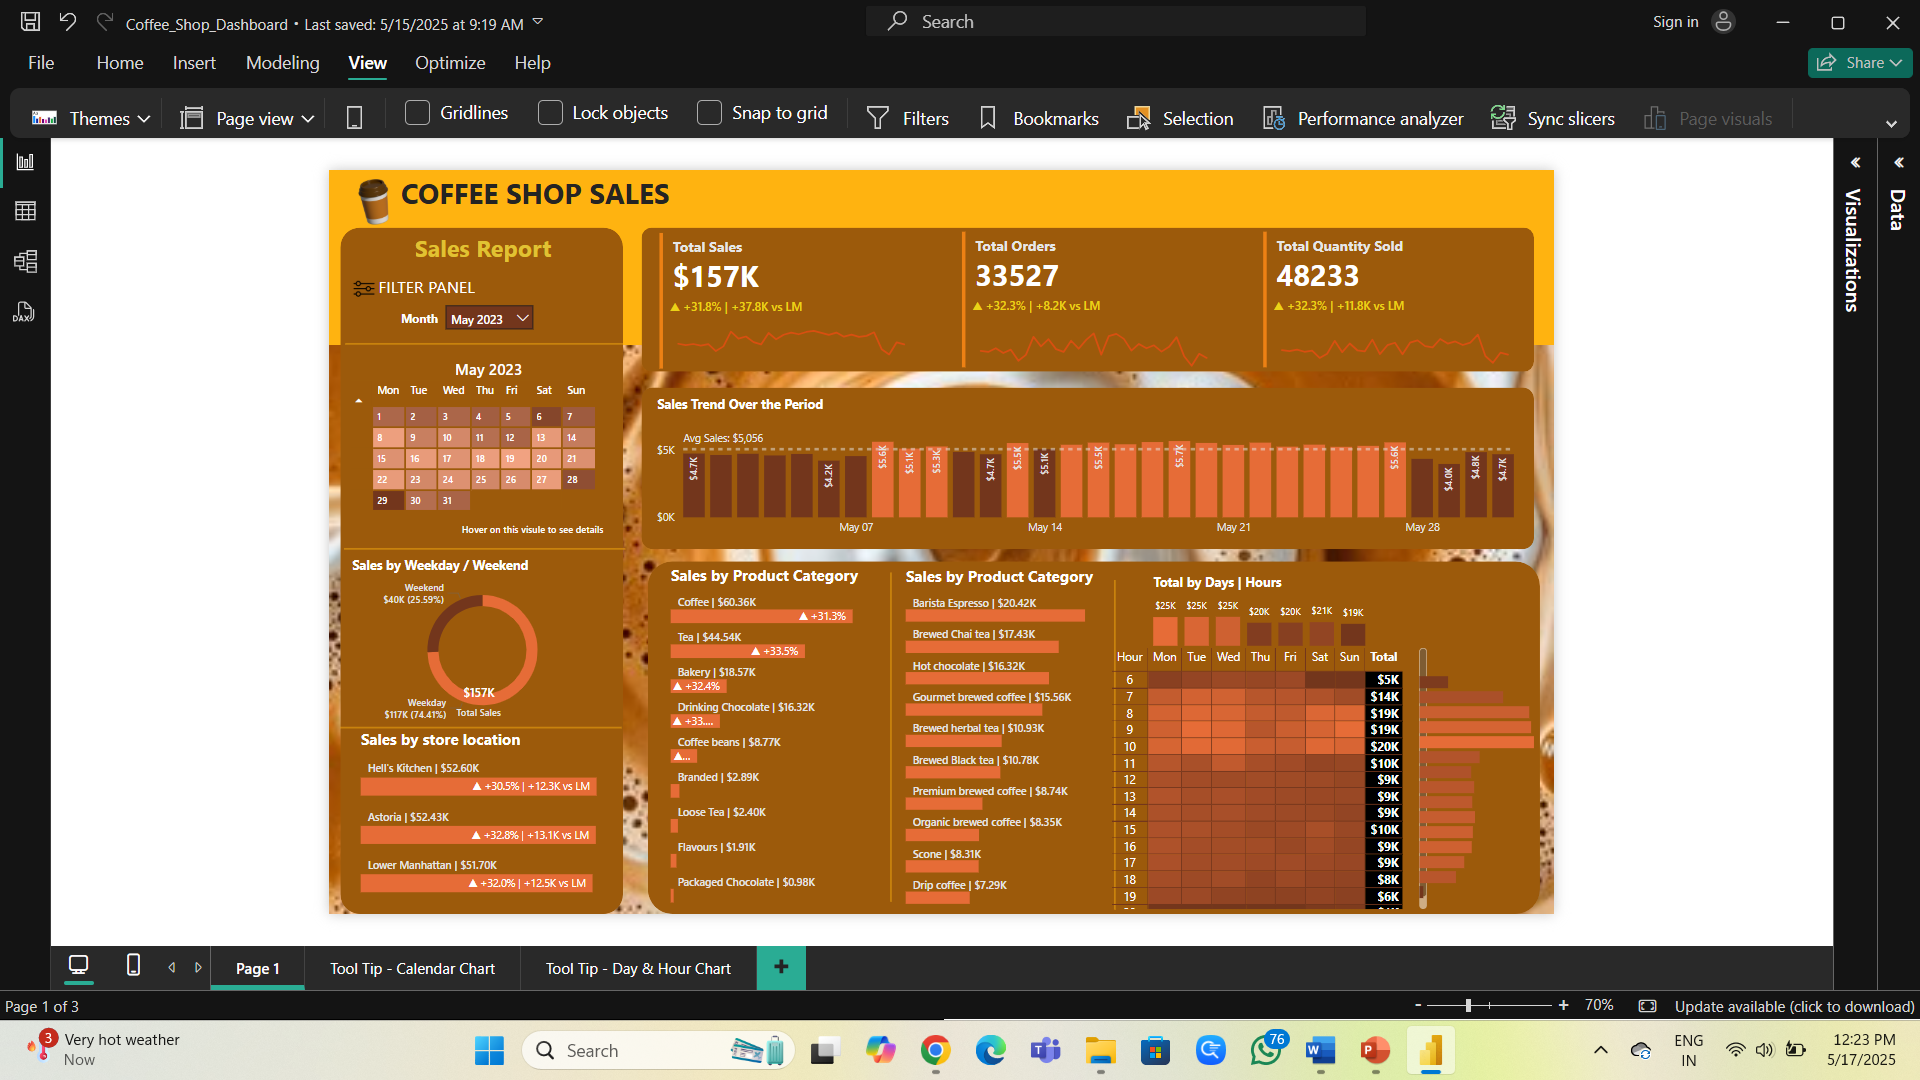

This screenshot's page, from the dashboard's own definition file:
{"tool":"powerbi","page":{"name":"Page 1","canvas":[1400,850],"ordinal":0},"visuals":[{"type":"shape","box":[0,0,1400,200],"z":0},{"type":"shape","box":[13.3,65,323.3,785],"z":1000},{"type":"shape","box":[356.7,65,1020,165],"z":2000},{"type":"textbox","box":[76.7,0,375,65],"z":3000},{"type":"cardVisual","fields":{"Data":["Transactions.Total Orders"]},"box":[718.3,65,300,165],"z":4000,"group":"g2"},{"type":"cardVisual","fields":{"Data":["Transactions.Total Quantity Sold"]},"box":[1063.3,65,300,165],"z":4000,"group":"g3"},{"type":"cardVisual","fields":{"Data":["Transactions.Total Sales"]},"box":[373.3,66.7,300,165],"z":4000,"group":"g1"},{"type":"slicer","fields":{"Values":["Date Table.Month Year"]},"box":[128.3,150,110,40],"z":4000},{"type":"group","id":"g1","title":"Group 1","box":[373.3,66.7,300,165],"z":5000},{"type":"group","id":"g2","title":"Group 1","box":[718.3,65,300,165],"z":6000},{"type":"lineChart","fields":{"Category":["Date Table.Date Hierarchy.Date"],"Y":["Transactions.Total Orders"]},"box":[730,145,288.3,85],"z":6000,"group":"g2"},{"type":"lineChart","fields":{"Category":["Date Table.Date Hierarchy.Date"],"Y":["Transactions.Total Quantity Sold"]},"box":[1075,145,288.3,85],"z":6000,"group":"g3"},{"type":"lineChart","fields":{"Category":["Date Table.Date Hierarchy.Date"],"Y":["Transactions.Total Sales"]},"box":[385,146.7,288.3,85],"z":6000,"group":"g1"},{"type":"group","id":"g3","title":"Group 1","box":[1063.3,65,300,165],"z":7000},{"type":"pivotTable","fields":{"Columns":["Date Table.Day Name"],"Rows":["Date Table.Week Number"],"Values":["Min(Date Table.Day Number)"]},"box":[20,235,305,190],"z":8000},{"type":"card","fields":{"Values":["Min(Date Table.Month Year)"]},"box":[128.3,198.3,108.3,61.7],"z":9000},{"type":"card","fields":{"Values":["Transactions.Foot Note"]},"box":[93.3,368.3,280,90],"z":10000},{"type":"shape","box":[16.7,406.7,321.7,51.7],"z":11000},{"type":"shape","box":[18.3,173.3,321.7,51.7],"z":12000},{"type":"donutChart","title":"Sales by Weekday / Weekend","fields":{"Category":["Date Table.Weekday / Weekend"],"Y":["Transactions.Total Sales"]},"box":[21.7,441.7,308.3,195],"z":13000},{"type":"card","fields":{"Values":["Transactions.Total Sales"]},"box":[121.7,576.7,100,60],"z":14000},{"type":"shape","box":[13.3,611.7,321.7,51.7],"z":15000},{"type":"clusteredBarChart","title":"Sales by store location","fields":{"Y":["Transactions.Placeholder","Transactions.Total Sales"],"Category":["Transactions.store_location"]},"box":[31.7,638.3,308.3,195],"z":16000},{"type":"shape","box":[356.7,248.3,1020,185],"z":17000},{"type":"columnChart","title":"Sales  Trend Over the Period","fields":{"Category":["Transactions.transaction_date"],"Y":["Transactions.Total Sales"]},"box":[370,256.7,998.3,170],"z":18000},{"type":"shape","box":[365,446.7,1020,403.3],"z":19000},{"type":"clusteredBarChart","title":"Sales by Product Category","fields":{"Y":["Transactions.Placeholder","Transactions.Total Sales"],"Category":["Transactions.product_category"]},"box":[385,451.7,250,391.7],"z":20000},{"type":"shape","box":[611.7,460,61.7,376.7],"z":21000},{"type":"clusteredBarChart","title":"Sales by Product Category","fields":{"Y":["Transactions.Placeholder","Transactions.Total Sales"],"Category":["Transactions.product_type"]},"box":[655,453.3,250,391.7],"z":22000},{"type":"shape","box":[875,468.3,45,376.7],"z":23000},{"type":"pivotTable","fields":{"Rows":["Transactions.Hour"],"Columns":["Date Table.Day Name"],"Values":["Transactions.Total Sales"]},"box":[890,541.7,370,308.3],"z":24000},{"type":"barChart","fields":{"Category":["Transactions.Hour"],"Y":["Transactions.Total Sales"]},"box":[1241.7,565,143.3,271.7],"z":25000},{"type":"columnChart","title":"Total  by Days | Hours","fields":{"Y":["Transactions.Total Sales"],"Category":["Date Table.Day Name"]},"box":[936.7,460,253.3,90],"z":26000},{"type":"textbox","box":[76.7,155,60,38.3],"z":27000},{"type":"textbox","box":[93.3,65,200,65],"z":27001},{"type":"textbox","box":[51.7,115,200,40],"z":27002},{"type":"image","box":[13.3,115,55,40],"z":27003},{"type":"image","box":[13.3,0,76.7,73.3],"z":27004}]}

Visuals, with their boxes on the page's 1400x850 design canvas (x1, y1, x2, y2). These are canvas units, not pixel positions in the 1920x1080 screenshot, which may show the page scaled, cropped or inside an application window:
shape: locate(0, 0, 1400, 200)
shape: locate(13, 65, 337, 850)
shape: locate(357, 65, 1377, 230)
textbox: locate(77, 0, 452, 65)
cardVisual - Transactions.Total Orders: locate(718, 65, 1018, 230)
cardVisual - Transactions.Total Quantity Sold: locate(1063, 65, 1363, 230)
cardVisual - Transactions.Total Sales: locate(373, 67, 673, 232)
slicer - Date Table.Month Year: locate(128, 150, 238, 190)
"Group 1" group: locate(373, 67, 673, 232)
"Group 1" group: locate(718, 65, 1018, 230)
lineChart - Date Table.Date Hierarchy.Date x Transactions.Total Orders: locate(730, 145, 1018, 230)
lineChart - Date Table.Date Hierarchy.Date x Transactions.Total Quantity Sold: locate(1075, 145, 1363, 230)
lineChart - Date Table.Date Hierarchy.Date x Transactions.Total Sales: locate(385, 147, 673, 232)
"Group 1" group: locate(1063, 65, 1363, 230)
pivotTable - Date Table.Day Name x Date Table.Week Number: locate(20, 235, 325, 425)
card - Min(Date Table.Month Year): locate(128, 198, 237, 260)
card - Transactions.Foot Note: locate(93, 368, 373, 458)
shape: locate(17, 407, 338, 458)
shape: locate(18, 173, 340, 225)
"Sales by Weekday / Weekend" donutChart: locate(22, 442, 330, 637)
card - Transactions.Total Sales: locate(122, 577, 222, 637)
shape: locate(13, 612, 335, 663)
"Sales by store location" clusteredBarChart: locate(32, 638, 340, 833)
shape: locate(357, 248, 1377, 433)
"Sales  Trend Over the Period" columnChart: locate(370, 257, 1368, 427)
shape: locate(365, 447, 1385, 850)
"Sales by Product Category" clusteredBarChart: locate(385, 452, 635, 843)
shape: locate(612, 460, 673, 837)
"Sales by Product Category" clusteredBarChart: locate(655, 453, 905, 845)
shape: locate(875, 468, 920, 845)
pivotTable - Transactions.Hour x Date Table.Day Name: locate(890, 542, 1260, 850)
barChart - Transactions.Hour x Transactions.Total Sales: locate(1242, 565, 1385, 837)
"Total  by Days | Hours" columnChart: locate(937, 460, 1190, 550)
textbox: locate(77, 155, 137, 193)
textbox: locate(93, 65, 293, 130)
textbox: locate(52, 115, 252, 155)
image: locate(13, 115, 68, 155)
image: locate(13, 0, 90, 73)
